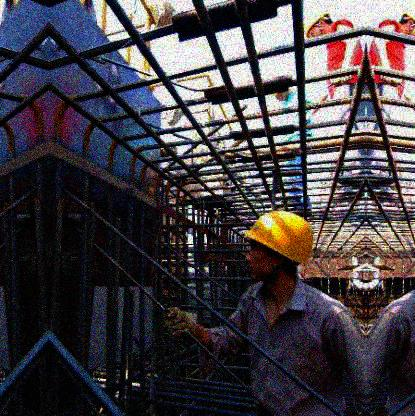helmet: (244, 208, 314, 281), (303, 10, 333, 41)
